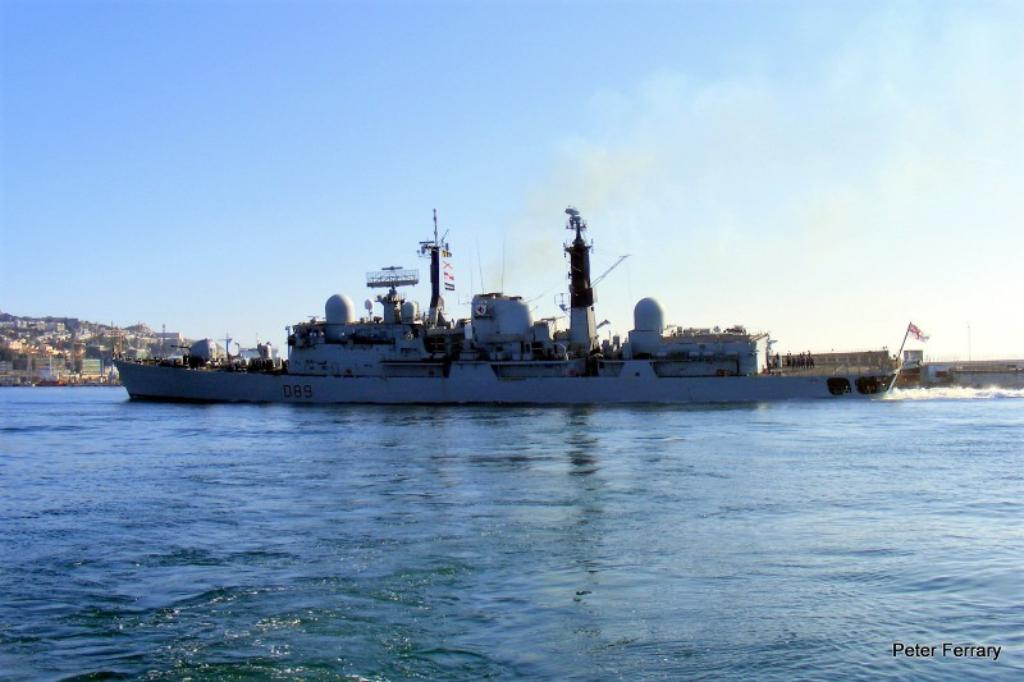Warship: (109, 197, 899, 409)
